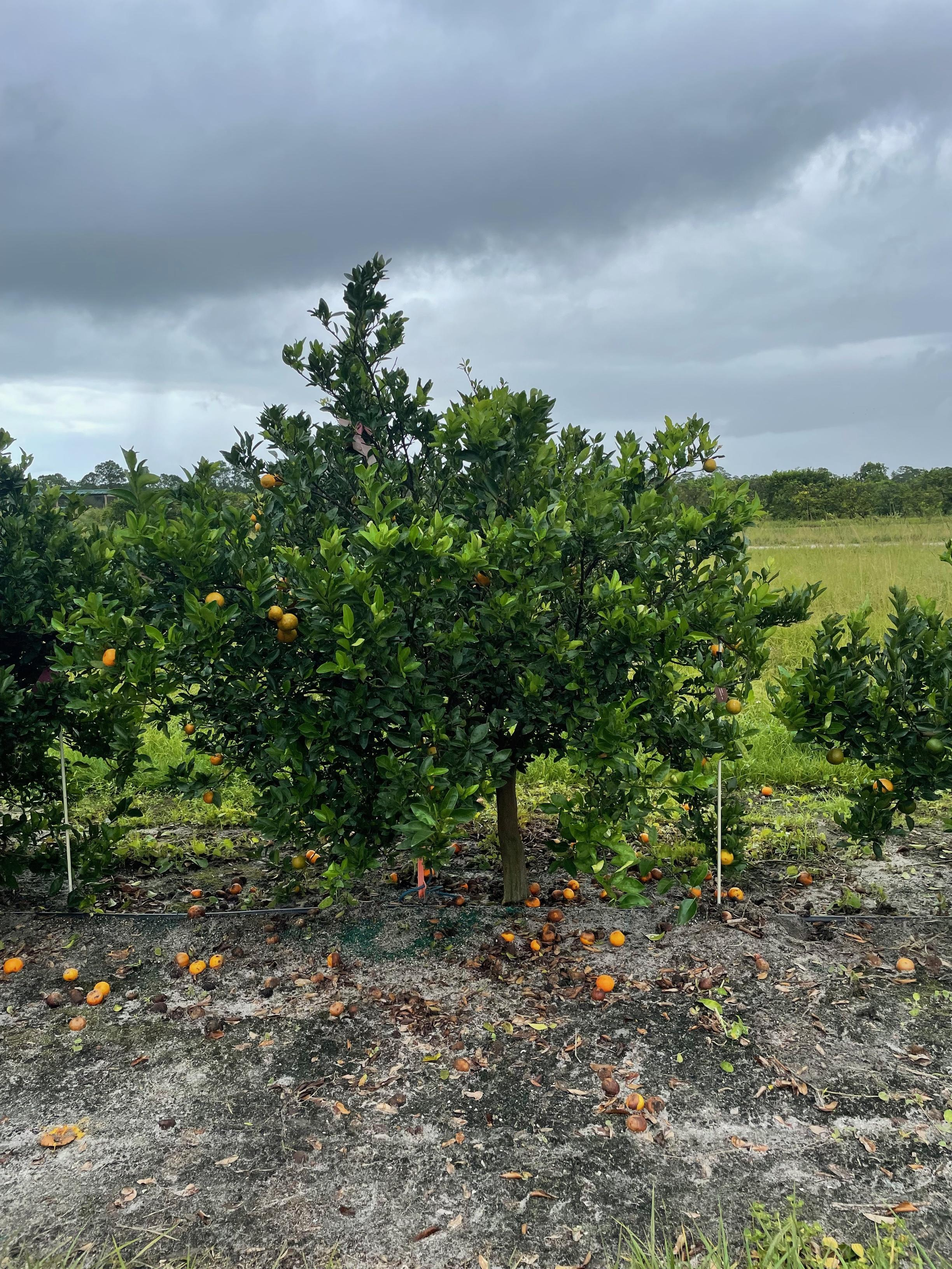fruit_on_ground: (99, 644, 124, 669), (470, 565, 495, 589), (870, 775, 897, 797), (922, 736, 948, 757), (203, 589, 227, 611), (275, 624, 299, 645), (276, 612, 300, 633), (825, 745, 847, 767), (265, 603, 286, 623), (896, 797, 918, 815), (724, 697, 743, 716), (707, 641, 726, 659), (290, 853, 310, 870), (718, 847, 735, 865), (701, 456, 718, 474), (259, 473, 277, 490), (725, 635, 743, 652), (208, 751, 226, 767), (270, 471, 286, 488), (182, 721, 198, 736), (202, 789, 216, 805), (682, 802, 692, 811)
fruit_on_tree: (624, 1112, 649, 1134), (623, 1091, 646, 1112), (894, 954, 917, 974), (594, 973, 616, 993), (600, 1077, 620, 1098), (3, 955, 25, 974), (607, 928, 626, 947), (187, 957, 207, 975), (208, 952, 226, 970), (325, 950, 343, 968), (186, 903, 206, 919), (68, 1015, 88, 1031), (174, 949, 191, 967), (797, 869, 815, 885), (61, 965, 79, 981), (85, 989, 103, 1005), (579, 930, 597, 945), (546, 907, 564, 922), (727, 886, 745, 901), (96, 978, 112, 994), (329, 1000, 345, 1016), (524, 896, 542, 910), (542, 921, 558, 936), (686, 884, 702, 899), (759, 783, 775, 798), (527, 880, 542, 895), (714, 886, 730, 900), (649, 866, 665, 880), (499, 928, 515, 942), (227, 881, 242, 895), (637, 829, 651, 844), (528, 937, 542, 952), (387, 869, 400, 884), (562, 886, 577, 899), (565, 877, 580, 890), (719, 908, 733, 921), (308, 853, 322, 866), (450, 839, 463, 853), (189, 886, 203, 899), (597, 888, 610, 900), (453, 894, 466, 906), (701, 869, 714, 881), (304, 849, 318, 859), (459, 880, 470, 891)
